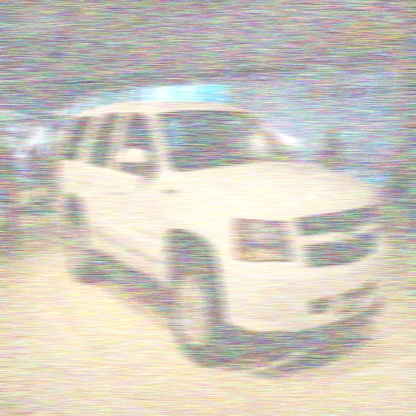Vehicle: (57, 101, 390, 372)
